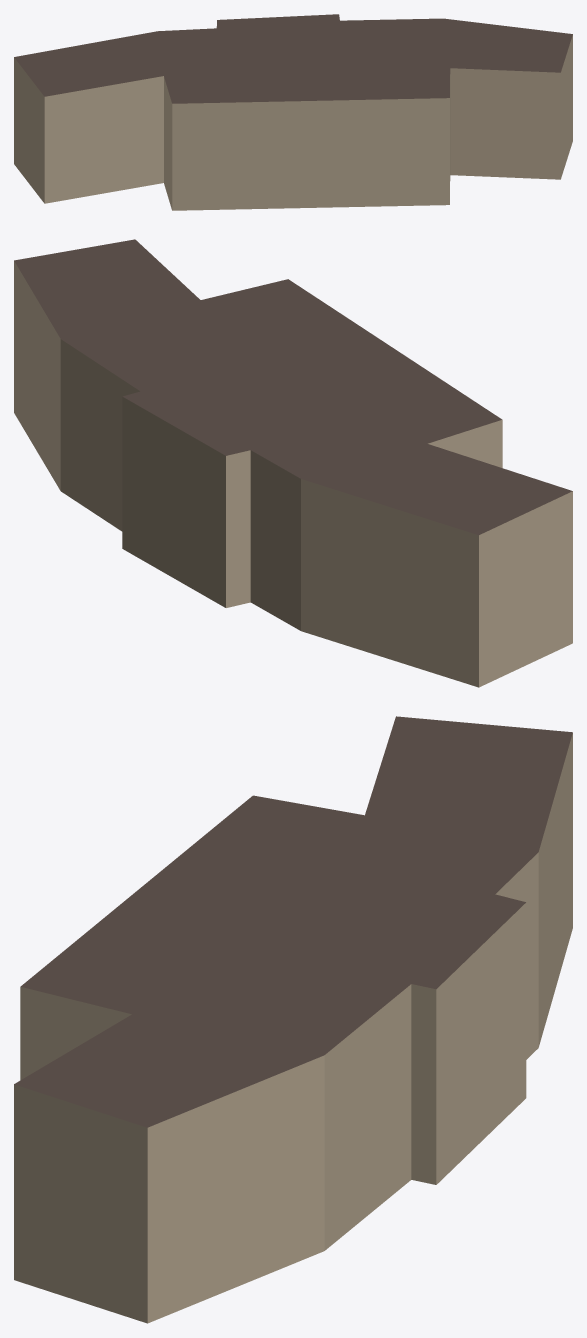
3 views of the same model, one above another, from view 1: azimuth 30°, elevation 25°; view 2: azimuth 150°, elevation 25°; view 3: azimuth 270°, elevation 25° (orthographic). The views are drawn at different scales.
Visible parts, largest first — view 1: HP-w293024001; view 2: HP-w293024001; view 3: HP-w293024001.
Part boxes in pixels (bbox=[...]): HP-w293024001: bbox=[14, 14, 572, 210]; HP-w293024001: bbox=[14, 239, 572, 687]; HP-w293024001: bbox=[14, 716, 572, 1323].
Bounding box in the file's own units: 40.54 × 9 × 23.28.
